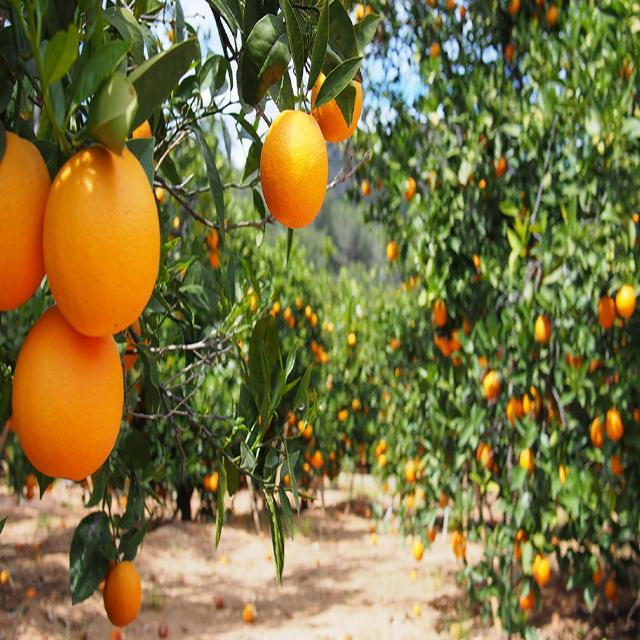Orange: (36, 128, 182, 355), (8, 294, 142, 486), (255, 92, 332, 258), (101, 545, 153, 640)
